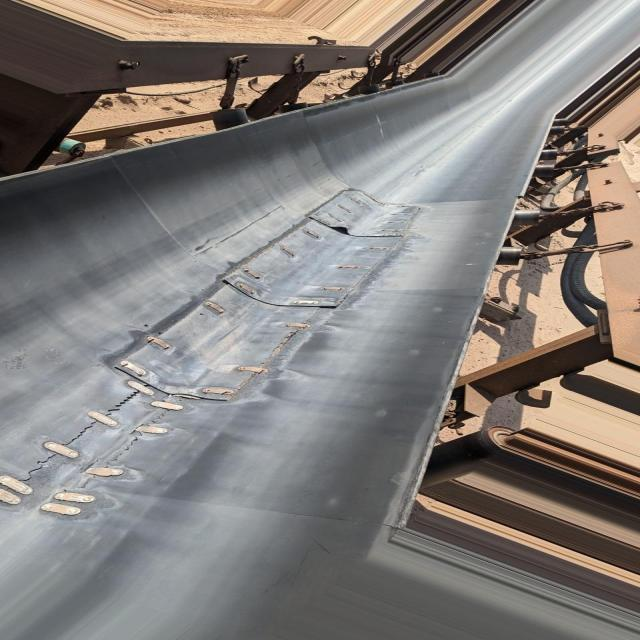patch work: (0, 192, 416, 528)
